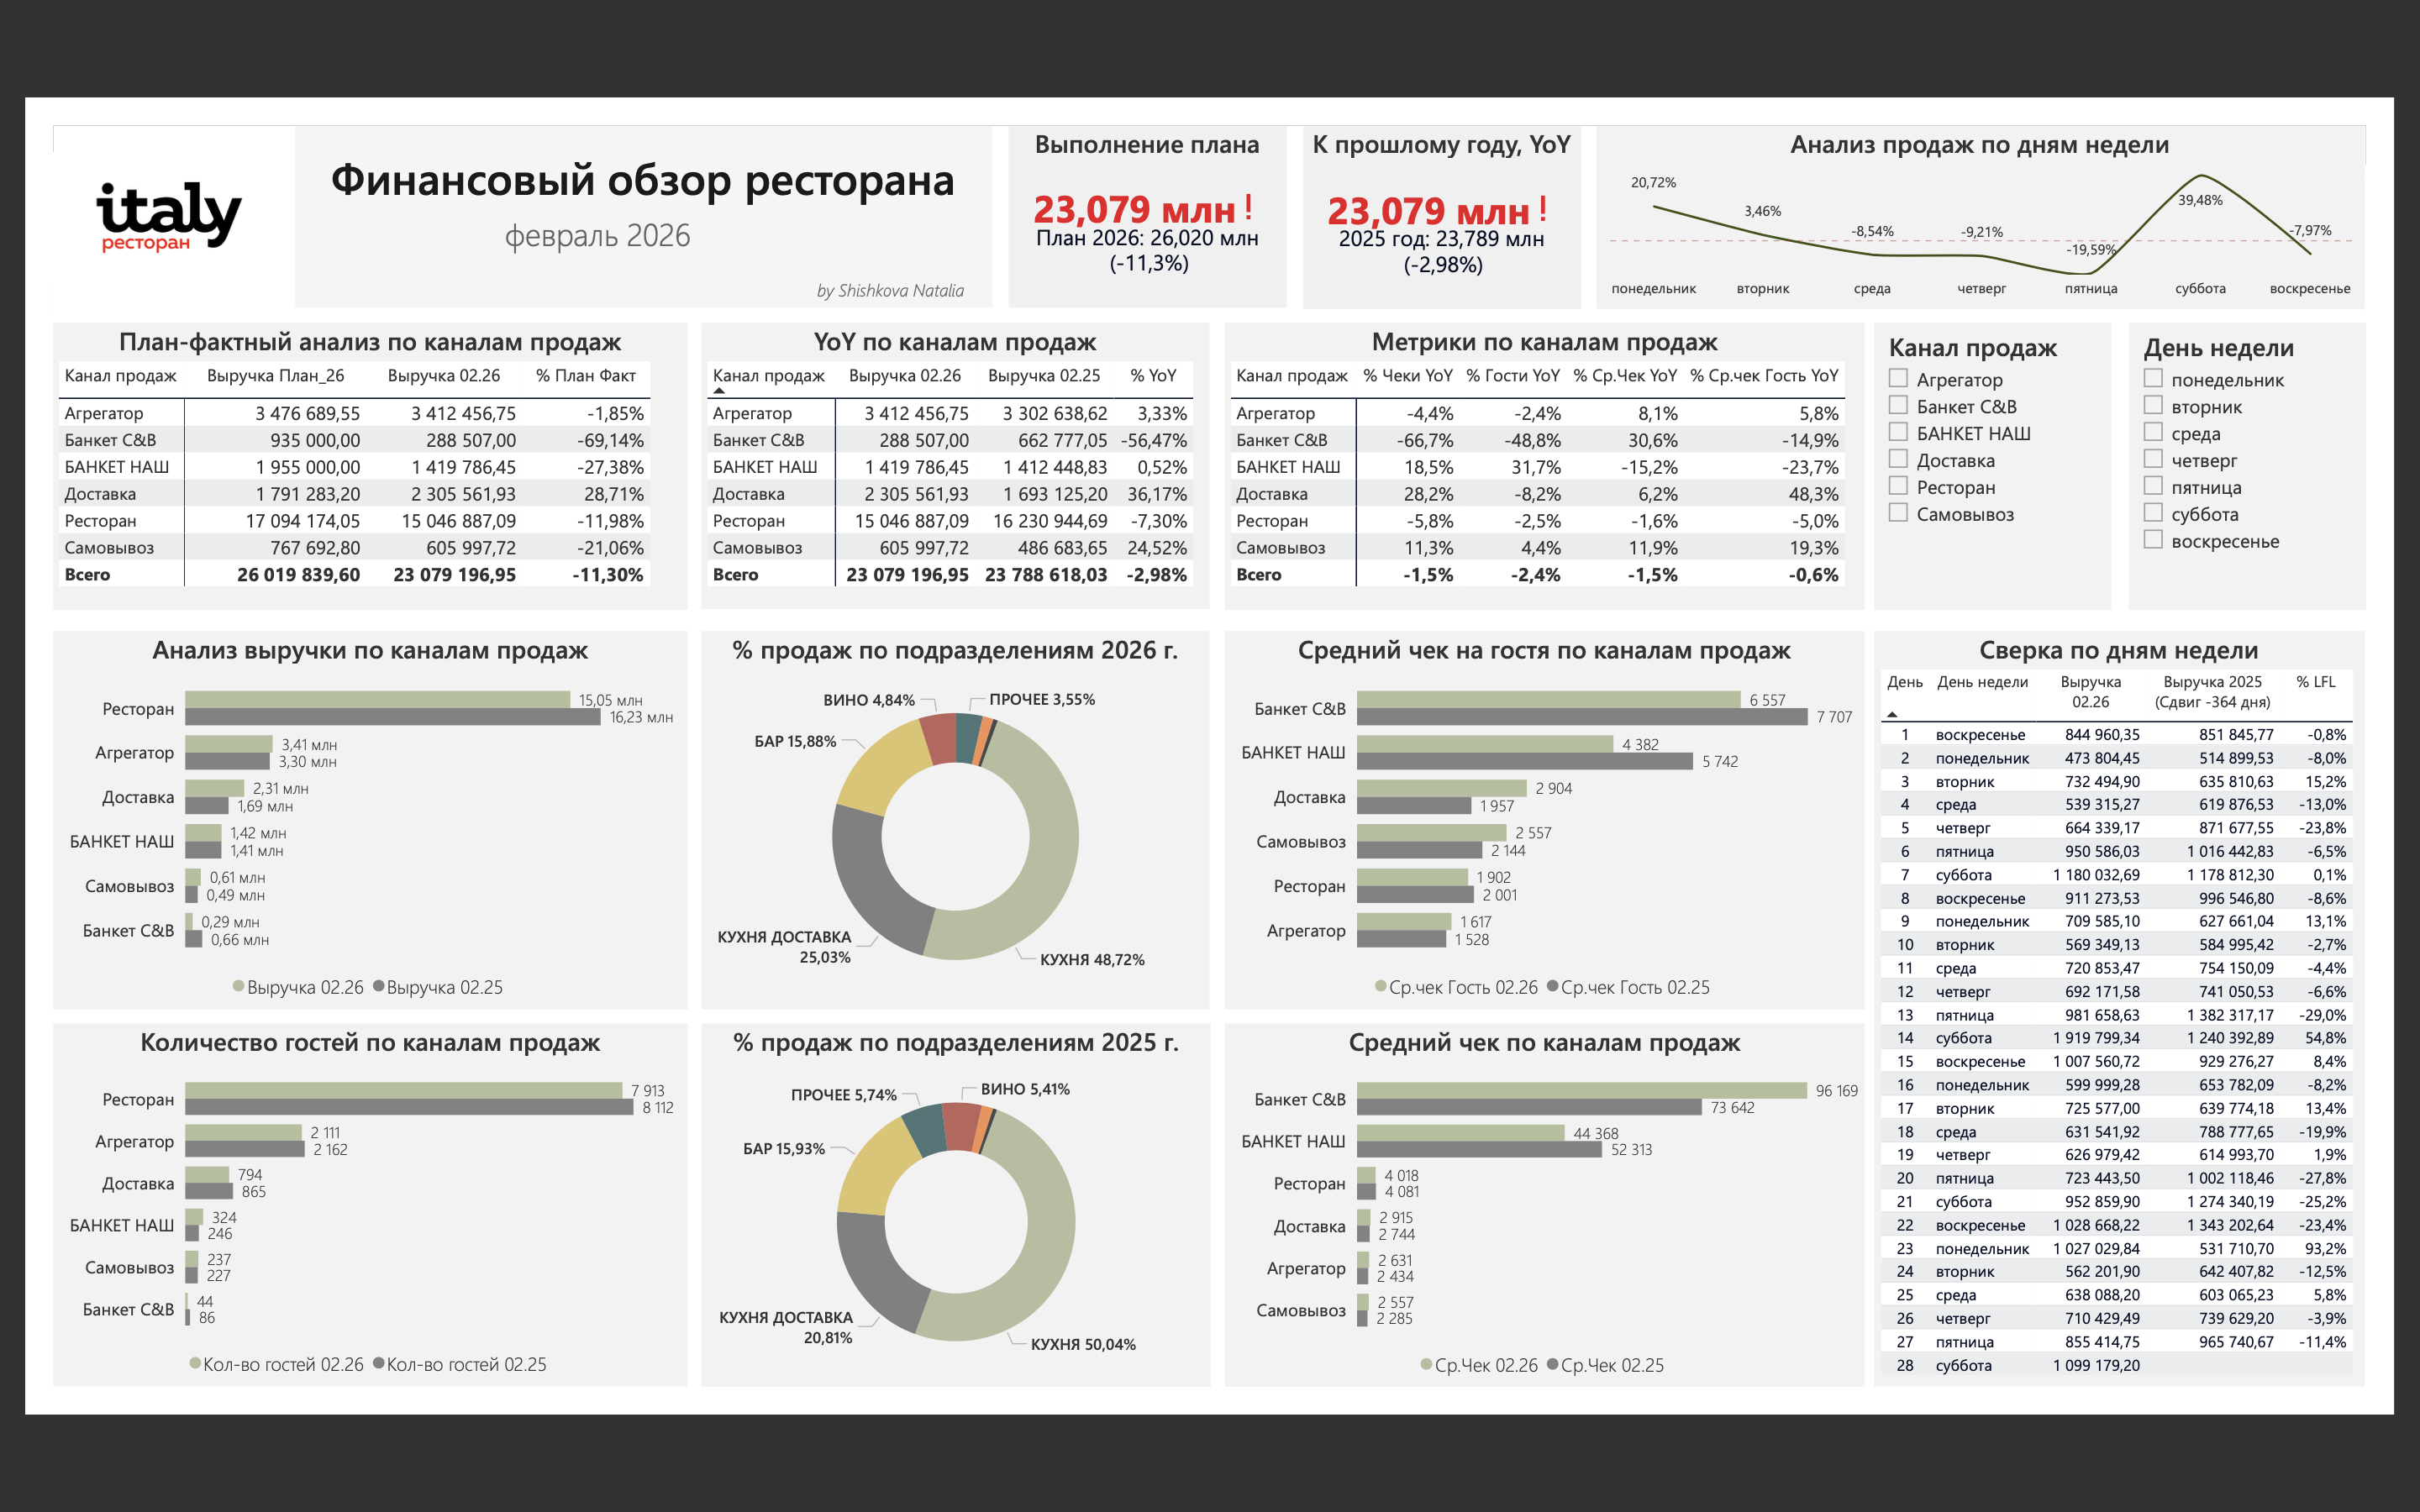

The dashboard page shown, as its layout file describes it:
{"tool":"powerbi","page":{"name":"DIRECTOR_DASHBOARD","canvas":[1980,1080],"ordinal":0},"visuals":[{"type":"textbox","box":[207,0,597,156],"z":0},{"type":"image","box":[0,0,199,157],"z":1000},{"type":"kpi","title":"Выполнение плана","fields":{"TrendLine":["Календарь.Месяц"],"Indicator":["факт 02 2026.Выручка Факт 02.26"],"Goal":["план 02 2026_канал продаж.Выручка План_26"]},"box":[818,0,238,156],"z":2000},{"type":"kpi","title":"К прошлому году, YoY","fields":{"Goal":["факт 02 2025.Выручка 02.25"],"TrendLine":["Календарь.Месяц"],"Indicator":["факт 02 2026.Выручка 02.26"]},"box":[1070,0,238,157],"z":3000},{"type":"clusteredBarChart","title":"Анализ  выручки по каналам продаж","fields":{"Category":["Справочник Тип заказа.Канал продаж"],"Y":["факт 02 2026.Выручка Факт 02.26","факт 02 2025.Выручка Факт 02.25"]},"box":[0,433,543,324],"z":4000},{"type":"tableEx","title":"Сверка по дням недели ","fields":{"Values":["Календарь.День","Календарь.День недели","факт 02 2026.Выручка Факт 02.26","факт 02 2025.Выручка 2025 (Сдвиг -364 дня)","план 02 2026_канал продаж.% LFL"]},"box":[1559,433,420,647],"z":5000},{"type":"lineChart","title":"Анализ продаж по дням недели","fields":{"Category":["Календарь.День недели"],"Y":["план 02 2026_канал продаж.% LFL"]},"box":[1321,0,658,157],"z":6000},{"type":"clusteredBarChart","title":"Количество гостей по каналам продаж","fields":{"Category":["Справочник Тип заказа.Канал продаж"],"Y":["факт 02 2026.Кол-во гостей 02.26","факт 02 2025.Кол-во гостей 02.25"]},"box":[0,769,543,311],"z":7000},{"type":"clusteredBarChart","title":"Средний чек на гостя по каналам продаж","fields":{"Category":["Справочник Тип заказа.Канал продаж"],"Y":["факт 02 2026.Ср.чек Гость 02.26","факт 02 2025.Ср.чек Гость 02.25"]},"box":[1003,433,548,324],"z":8000},{"type":"clusteredBarChart","title":"Средний чек по каналам продаж","fields":{"Category":["Справочник Тип заказа.Канал продаж"],"Y":["факт 02 2026.Ср.Чек 02.26","факт 02 2025.Ср.Чек 02.25"]},"box":[1002.9,768.6,547.8,312.1],"z":9000},{"type":"slicer","fields":{"Values":["Календарь.День недели"]},"box":[1777,169,203,246],"z":10000},{"type":"donutChart","title":"% продаж по подразделениям 2026 г.","fields":{"Y":["факт 02 2026.Выручка 02.26"],"Category":["Справочник Категории блюд.Подразделение"]},"box":[555,433,435,324],"z":11000},{"type":"donutChart","title":"% продаж по подразделениям 2025 г.","fields":{"Category":["Справочник Категории блюд.Подразделение"],"Y":["факт 02 2025.Выручка 02.25"]},"box":[555,769,436,312],"z":12000},{"type":"pivotTable","title":"YoY по каналам продаж","fields":{"Rows":["Справочник Тип заказа.Канал продаж"],"Values":["факт 02 2026.Выручка 02.26","факт 02 2025.Выручка 02.25","план 02 2026_канал продаж.% YoY"]},"box":[555,169,435,245],"z":13000},{"type":"pivotTable","title":"Метрики по каналам продаж","fields":{"Rows":["Справочник Тип заказа.Канал продаж"],"Values":["факт 02 2026.% Чеки YoY","факт 02 2026.% Гости YoY","факт 02 2026.% Ср.Чек YoY","факт 02 2026.% Ср.чек Гость YoY"]},"box":[1003,169,548,246],"z":14000},{"type":"slicer","fields":{"Values":["Справочник Тип заказа.Канал продаж"]},"box":[1559,169,203,246],"z":15000},{"type":"pivotTable","title":"План-фактный анализ по каналам продаж","fields":{"Rows":["Справочник Тип заказа.Канал продаж"],"Values":["план 02 2026_канал продаж.Выручка План_26","факт 02 2026.Выручка 02.26","план 02 2026_канал продаж.% План Факт"]},"box":[0,169,543,246],"z":16000}]}

Visuals, with their boxes on the page's 1980x1080 design canvas (x1, y1, x2, y2). These are canvas units, not pixel positions in the 2420x1512 screenshot, which may show the page scaled, cropped or inside an application window:
textbox: bbox=[207, 0, 804, 156]
image: bbox=[0, 0, 199, 157]
"Выполнение плана" kpi: bbox=[818, 0, 1056, 156]
"К прошлому году, YoY" kpi: bbox=[1070, 0, 1308, 157]
"Анализ  выручки по каналам продаж" clusteredBarChart: bbox=[0, 433, 543, 757]
"Сверка по дням недели " tableEx: bbox=[1559, 433, 1979, 1080]
"Анализ продаж по дням недели" lineChart: bbox=[1321, 0, 1979, 157]
"Количество гостей по каналам продаж" clusteredBarChart: bbox=[0, 769, 543, 1080]
"Средний чек на гостя по каналам продаж" clusteredBarChart: bbox=[1003, 433, 1551, 757]
"Средний чек по каналам продаж" clusteredBarChart: bbox=[1003, 769, 1551, 1081]
slicer - Календарь.День недели: bbox=[1777, 169, 1980, 415]
"% продаж по подразделениям 2026 г." donutChart: bbox=[555, 433, 990, 757]
"% продаж по подразделениям 2025 г." donutChart: bbox=[555, 769, 991, 1081]
"YoY по каналам продаж" pivotTable: bbox=[555, 169, 990, 414]
"Метрики по каналам продаж" pivotTable: bbox=[1003, 169, 1551, 415]
slicer - Справочник Тип заказа.Канал продаж: bbox=[1559, 169, 1762, 415]
"План-фактный анализ по каналам продаж" pivotTable: bbox=[0, 169, 543, 415]
